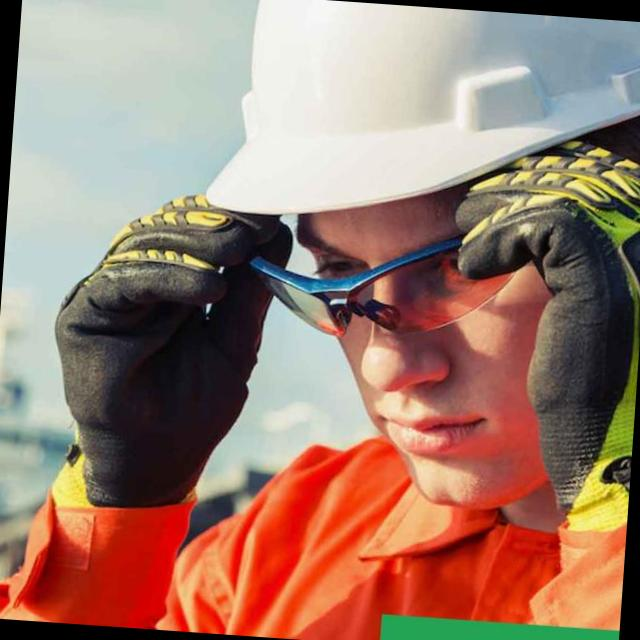Gloves: (435, 118, 640, 529), (42, 178, 263, 515)
Helmet: (200, 0, 640, 239)
